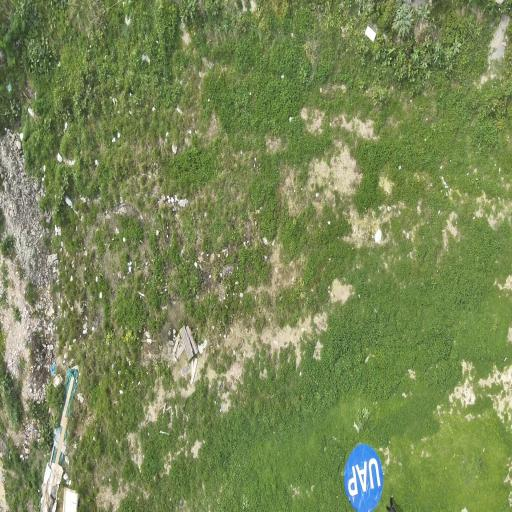UAP: (344, 444, 383, 511)
person: (387, 496, 395, 511)
